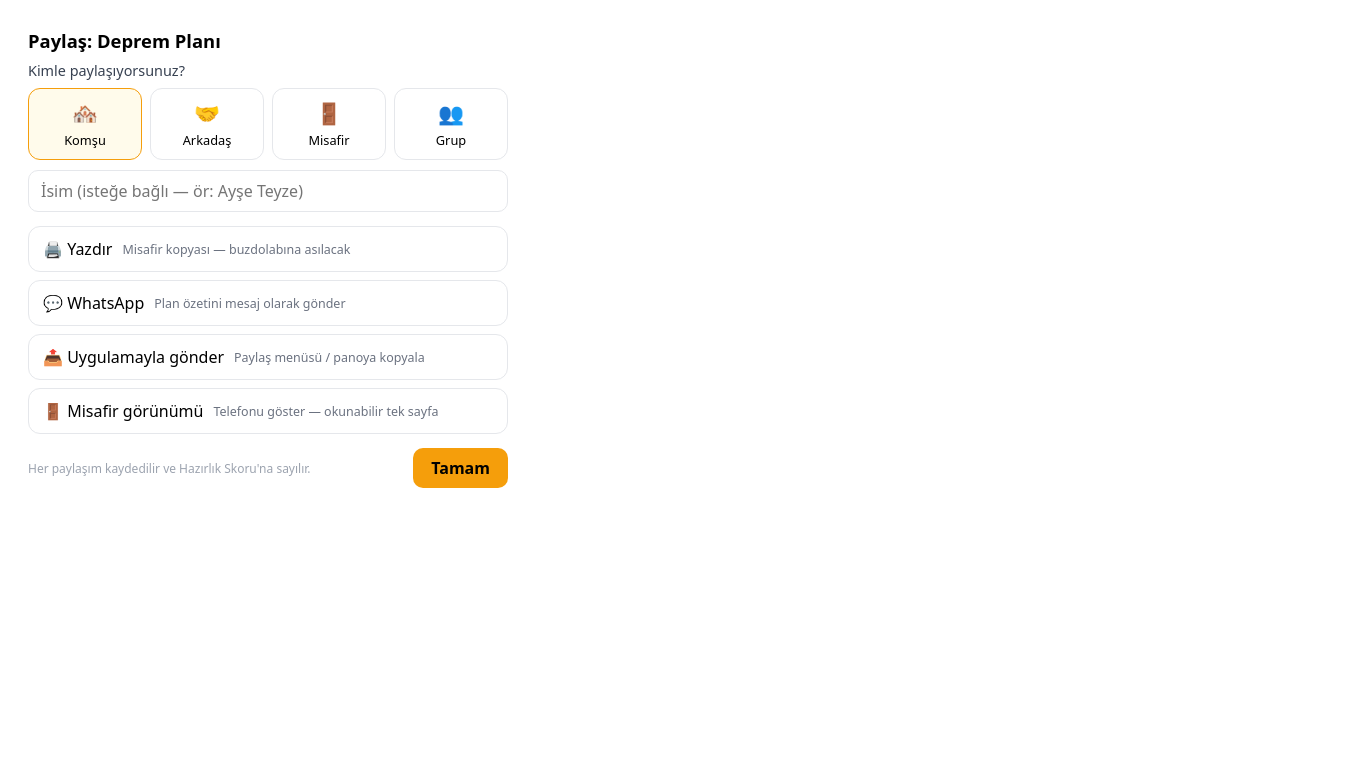
Test: ShareDialog — komşu/arkadaş/misafir/grup paylaşımı › WhatsApp action logs a share with the selected recipient
The image size is (1366, 768).
# Komşu seçili (varsayılan) + isim gir
Type "Ayşe Teyze" into the field with class "name" at [268, 191], box [28,170,508,212]
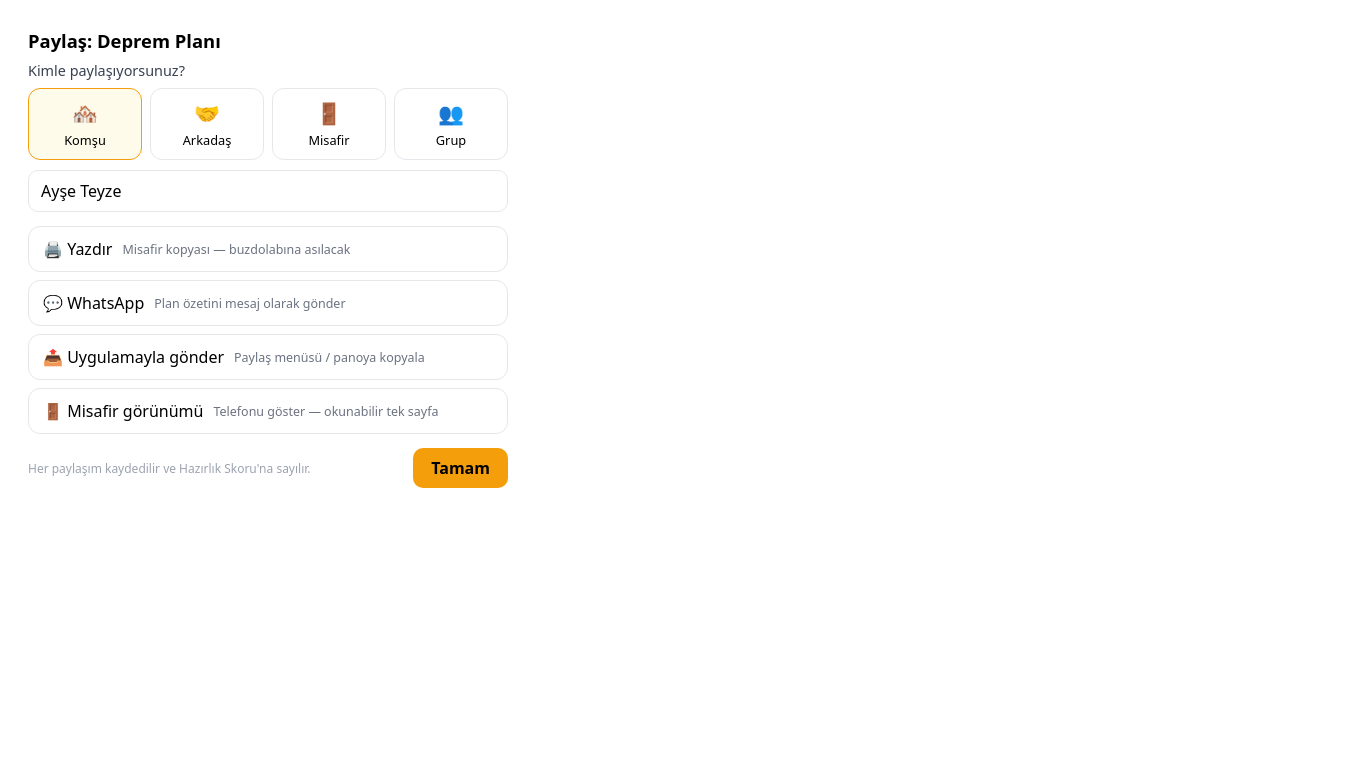
Click the button "💬 WhatsApp Plan özetini mesaj olarak gönder" at [268, 303], box [28,280,508,326]
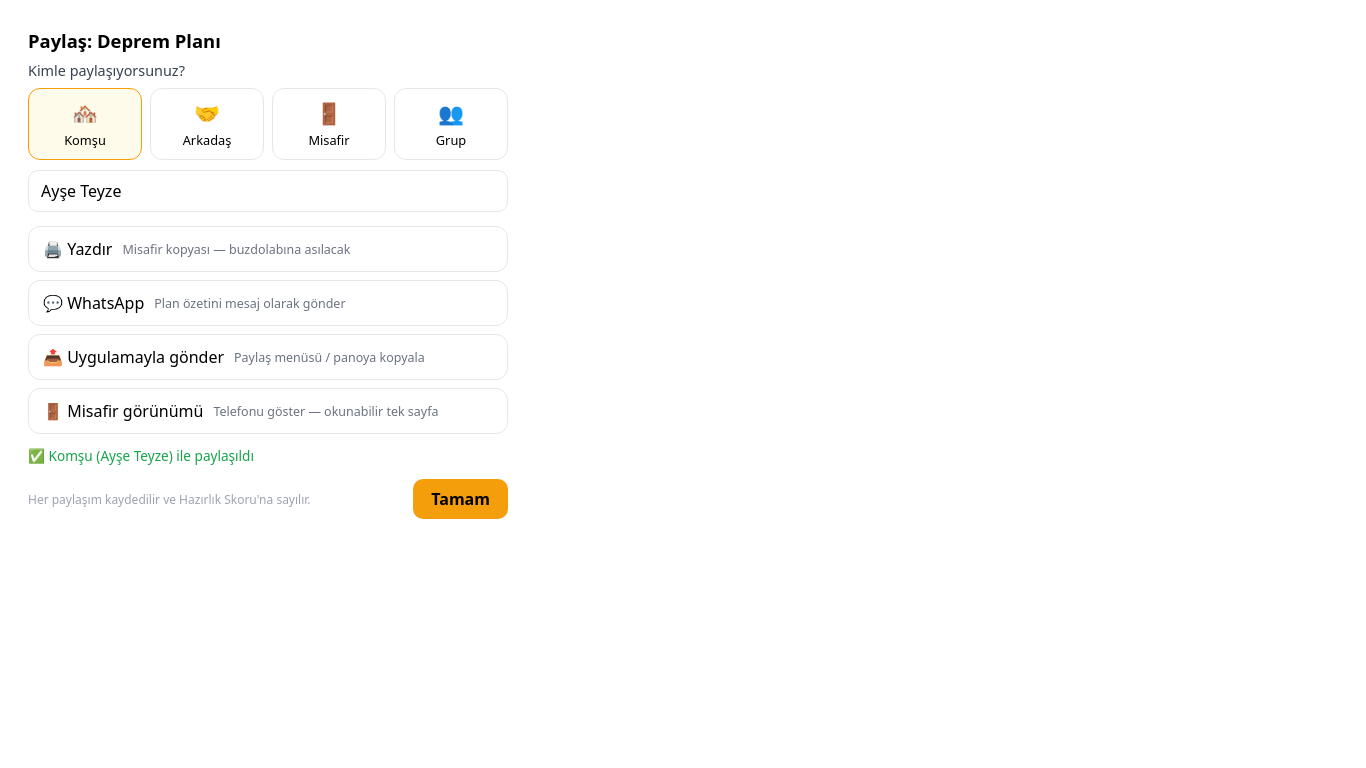
Check: the text "Komşu (Ayşe Teyze) ile paylaşıldı" is shown, box [28,446,254,465]
